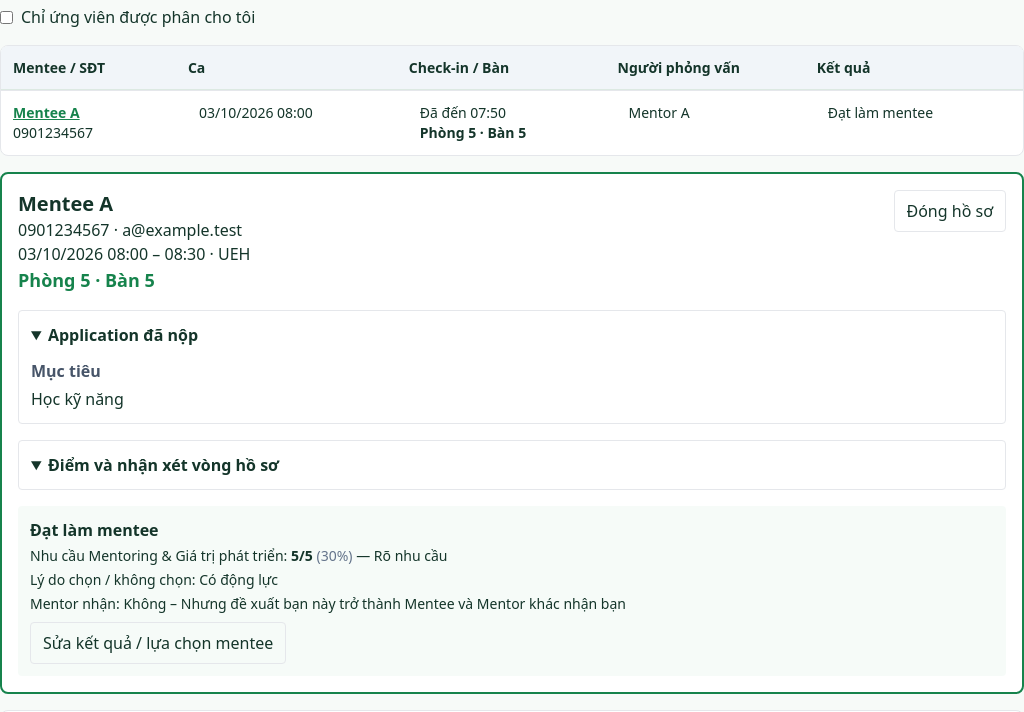
Test: sửa kết quả cũ cần bấm edit và nhập lý do sửa; form mở lại đúng điểm đã chấm
(page scrolled)
Click the button "Sửa kết quả / lựa chọn mentee" at x=158, y=643, box x1=30 y1=622 x2=286 y2=664
(page scrolled)
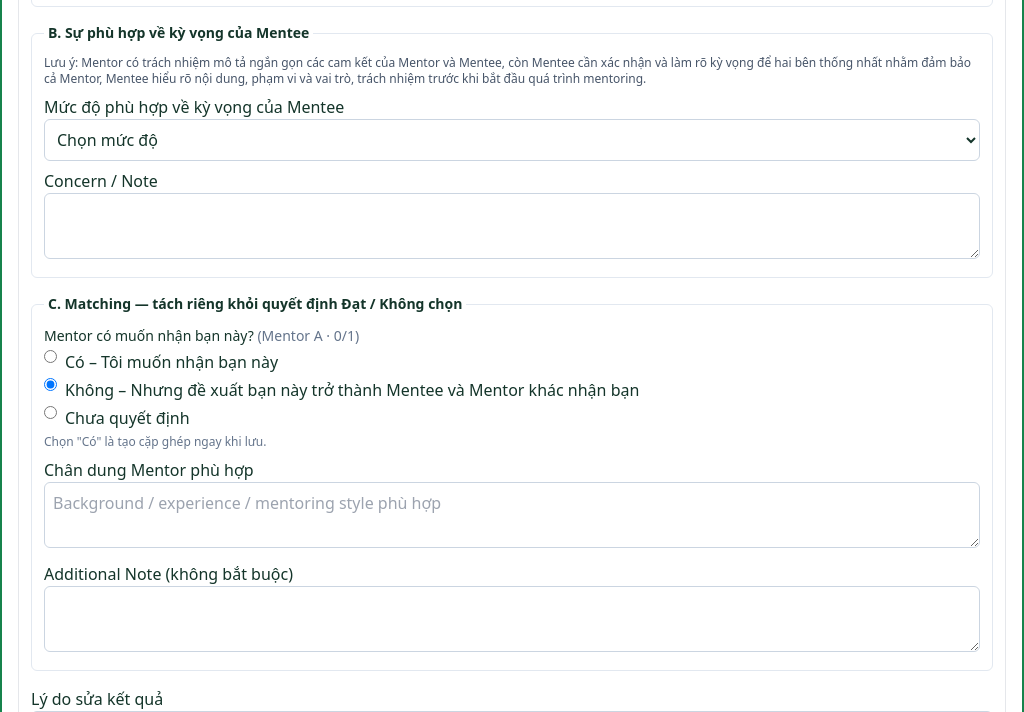
expect the radio button labelled "Không – Nhưng đề xuất bạn này trở thành Mentee và Mentor khác nhận bạn" is checked: met, box x1=44 y1=378 x2=57 y2=391
